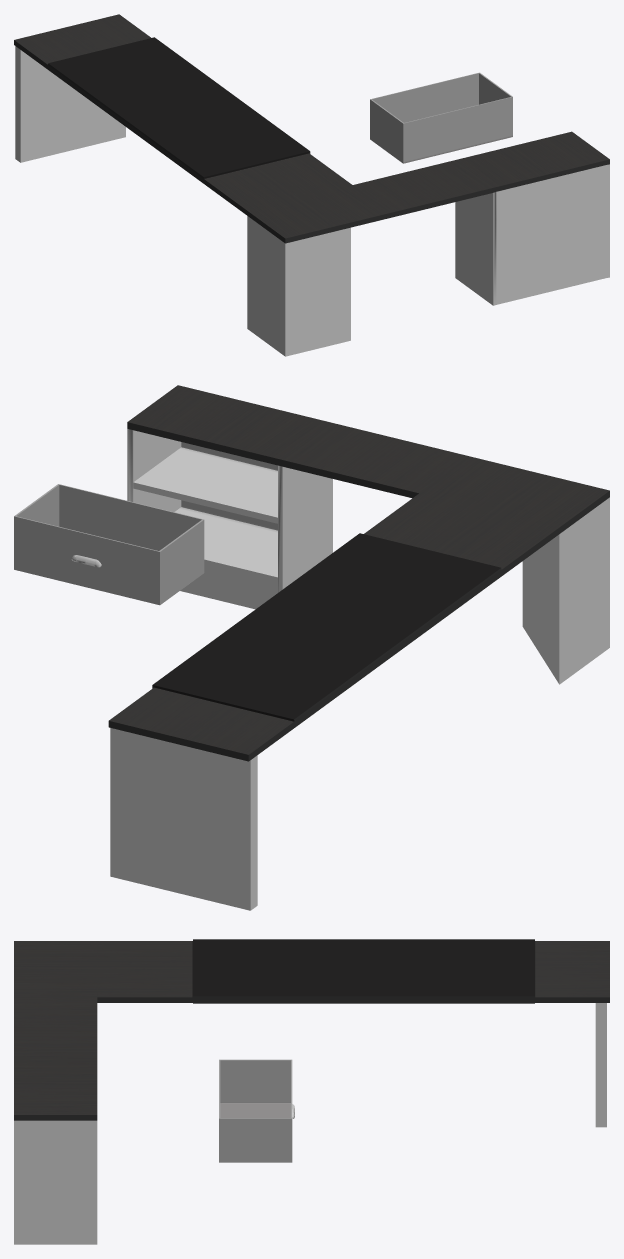
Rendered from drawer.FBX.
The picture shows the model from 3 angles, top to bottom: view 1: azimuth 30°, elevation 25°; view 2: azimuth 150°, elevation 25°; view 3: azimuth 270°, elevation 25°; orthographic projection. The views are drawn at different scales.
Parts seen in each view (by area): view 1: Object002_; view 2: Object002_; view 3: Object002_.
Part boxes in pixels (left/top/right/bottom): Object002_: left=14, top=14, right=609, bottom=356; Object002_: left=14, top=385, right=609, bottom=910; Object002_: left=14, top=939, right=609, bottom=1244.
Bounding box in the file's own units: 579 × 204 × 838.
Materials: 1 (1 with a texture image).
